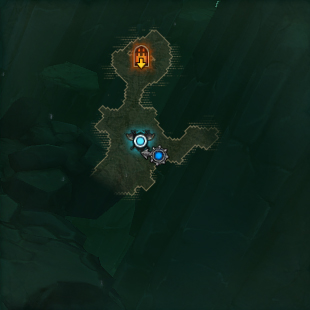Exit: (131, 45, 152, 70)
